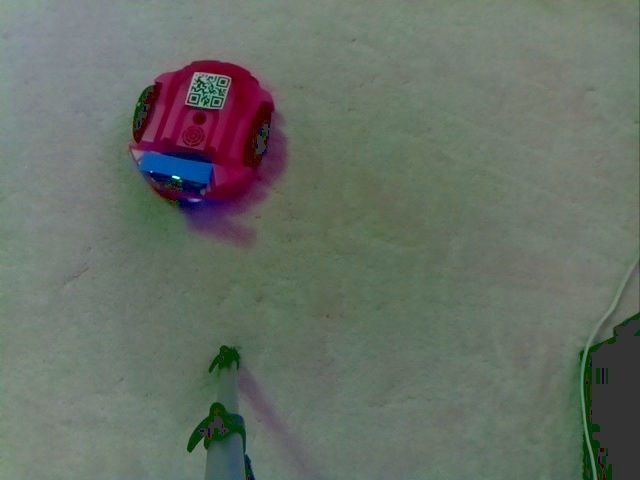board: (133, 135, 223, 203)
chassis: (126, 55, 276, 208)
